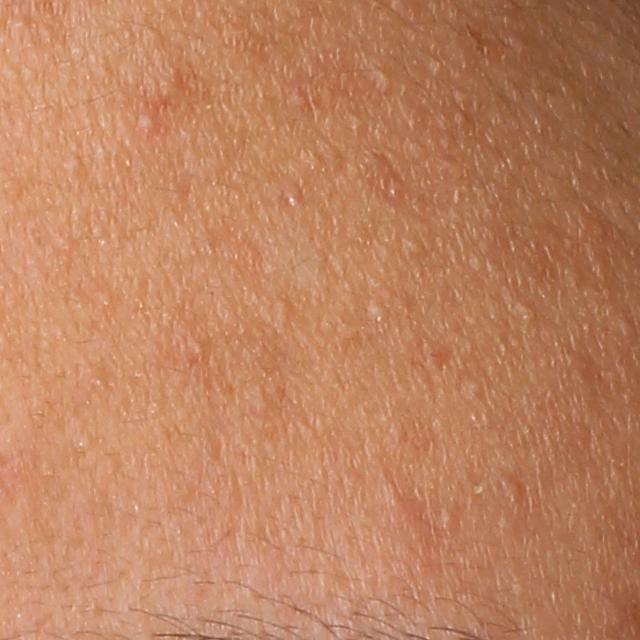comedo: (158, 60, 187, 98), (57, 155, 87, 179), (363, 299, 391, 324), (374, 63, 397, 91), (460, 378, 489, 400), (441, 506, 461, 533), (187, 333, 207, 359), (270, 299, 292, 322), (501, 479, 525, 500), (283, 182, 304, 206), (517, 304, 538, 323)
